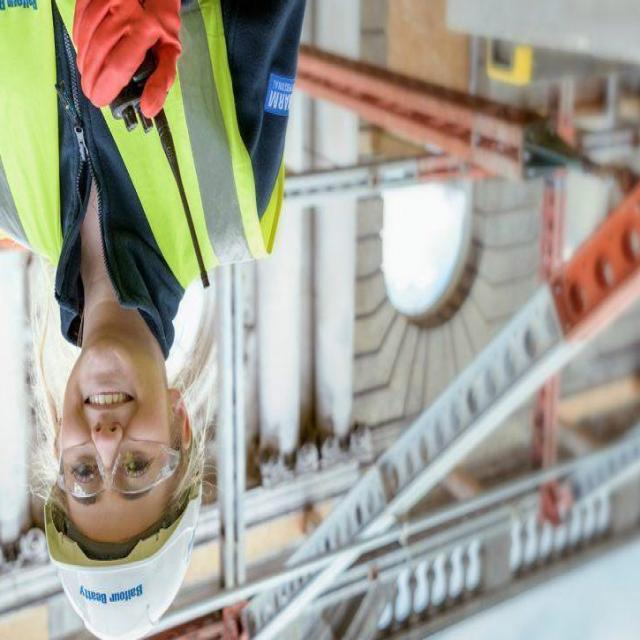helmet: (41, 486, 202, 640)
jacket: (0, 0, 308, 326)
